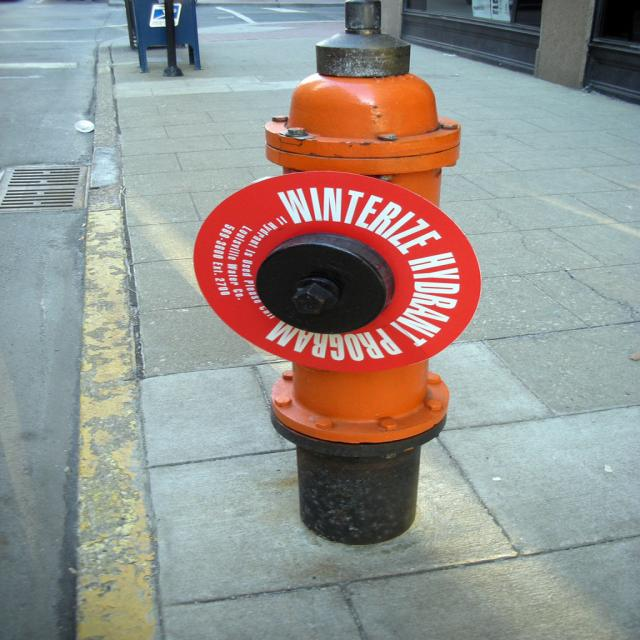fire_hydrant: (267, 0, 463, 548)
